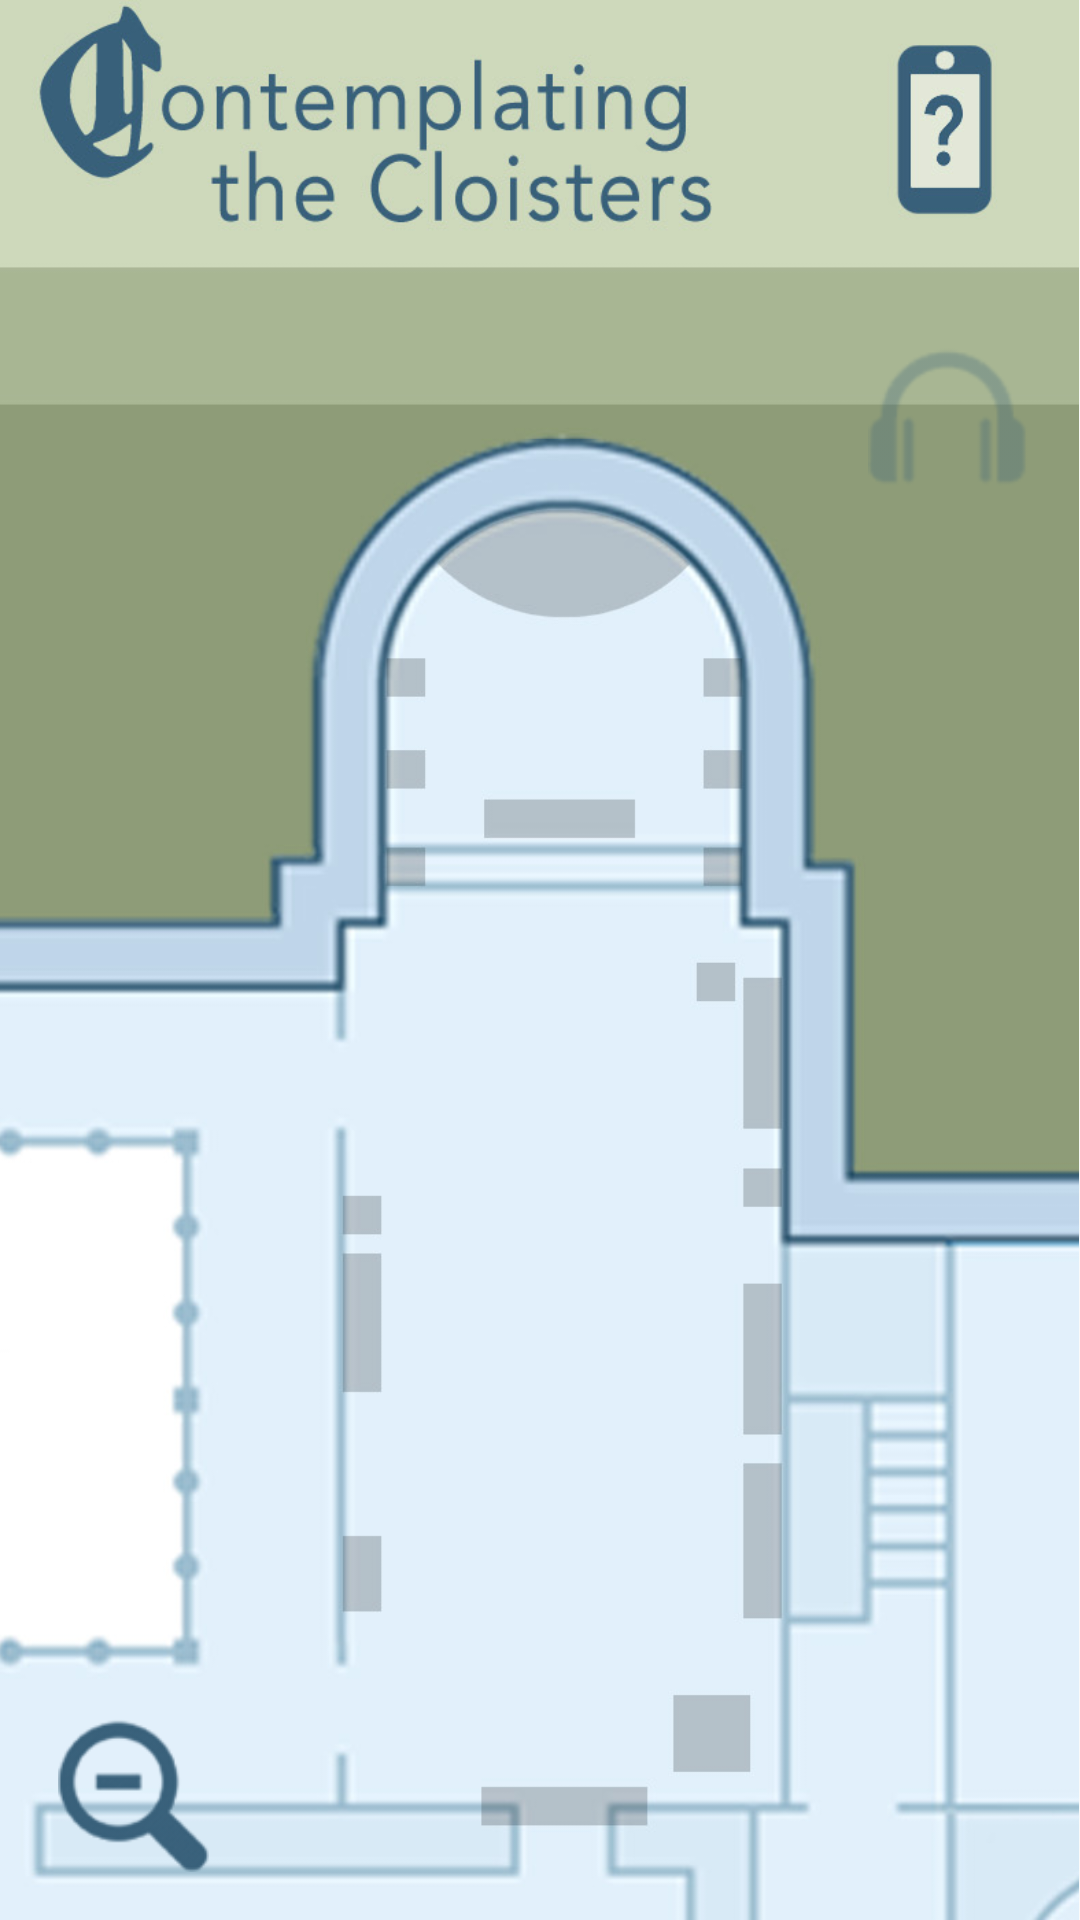

Point at icon controls on the screen. Image size 1080x1920, points as (x=x, y=y).
Podcast Inactive: (x=948, y=417)
Zoom Out: (x=133, y=1796)
